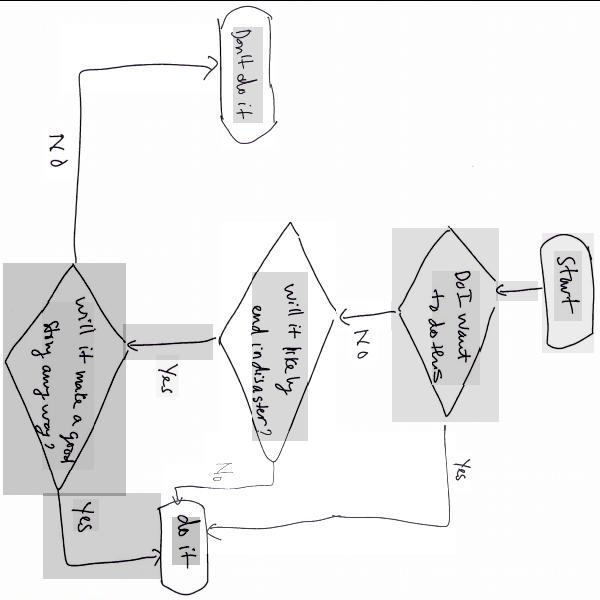arrow: (204, 430, 455, 553), (60, 25, 219, 92), (43, 492, 161, 578), (163, 462, 287, 504), (123, 323, 213, 359), (336, 300, 392, 329), (496, 280, 538, 300)
decision: (220, 222, 336, 466), (3, 263, 125, 494), (392, 228, 499, 421)
terminator: (222, 4, 275, 147), (542, 232, 594, 352)
text: (251, 271, 308, 440), (42, 301, 94, 469), (432, 270, 480, 384), (233, 26, 263, 122), (554, 250, 582, 320), (44, 130, 74, 178), (172, 516, 199, 564), (156, 354, 179, 396), (445, 452, 470, 490), (350, 329, 378, 360), (73, 498, 99, 530), (215, 456, 235, 492)
